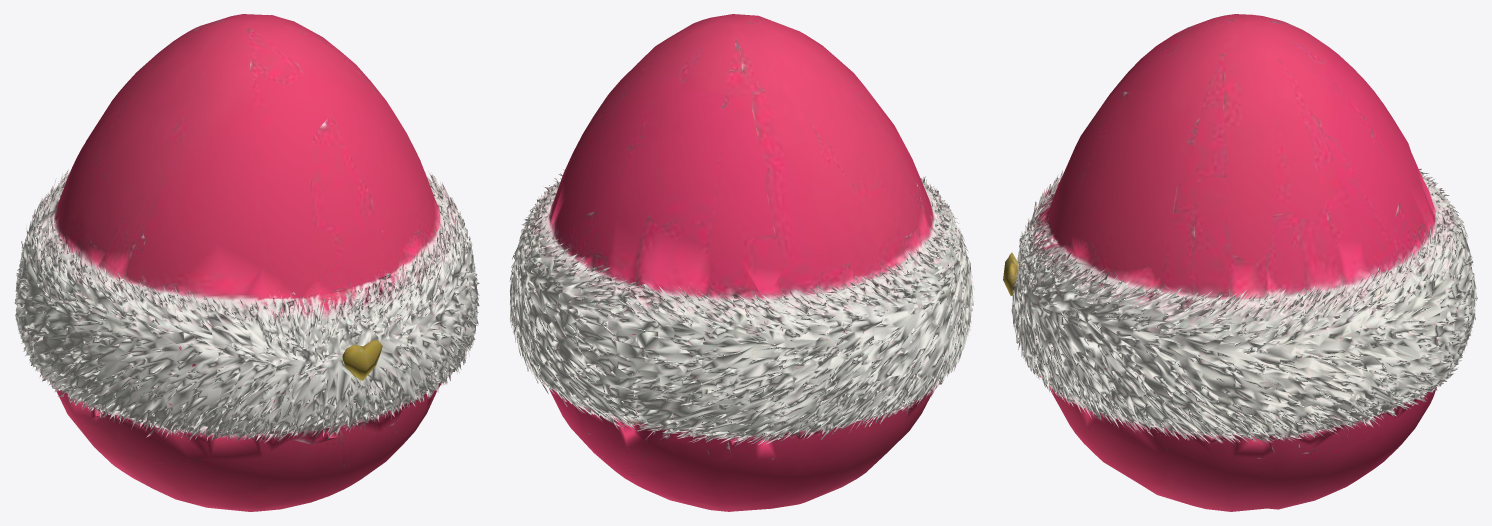
File: Corner-Egg.glb
The picture shows the model from 3 angles, left to right: view 1: azimuth 30°, elevation 25°; view 2: azimuth 150°, elevation 25°; view 3: azimuth 270°, elevation 25°; orthographic projection.
Size of the model in its own units: 0.1377 by 0.1524 by 0.1396.
Materials: 1 (1 with a texture image).
